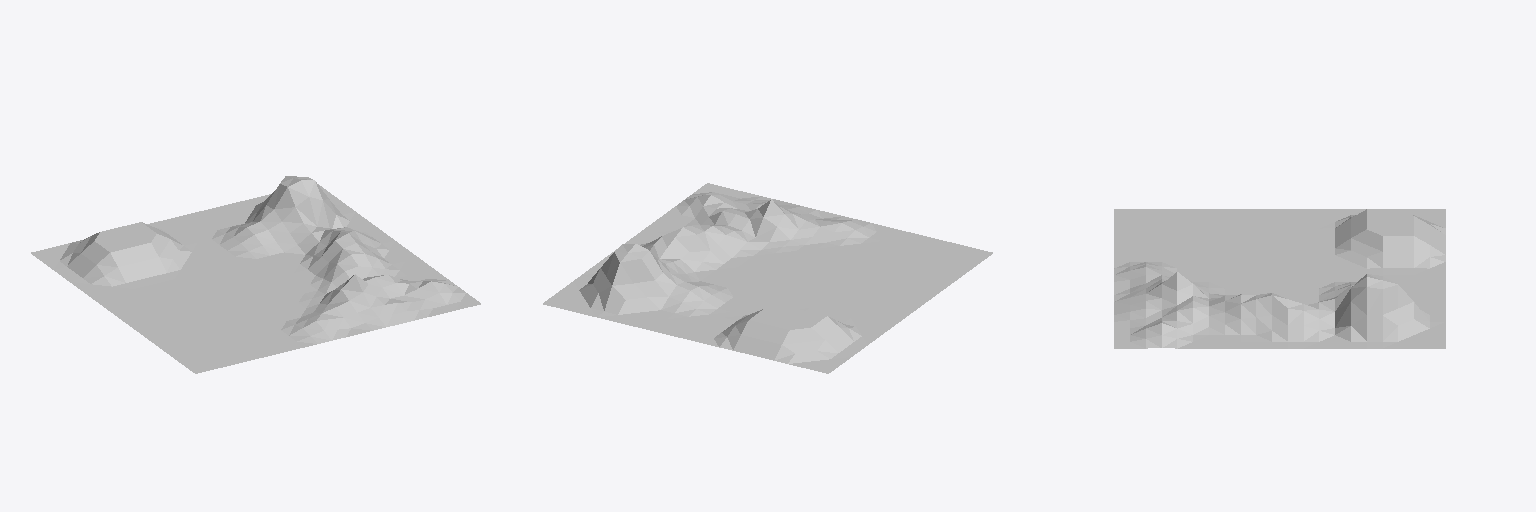
Rendered from terrain.obj.
3 views of the same model, side by side, from view 1: azimuth 30°, elevation 25°; view 2: azimuth 150°, elevation 25°; view 3: azimuth 270°, elevation 25° (orthographic).
Visible parts, largest first — view 1: Plane; view 2: Plane; view 3: Plane.
Boxes of the visible parts, x1,y1,x2,y2 form: Plane: [31, 176, 480, 373]; Plane: [543, 183, 992, 373]; Plane: [1114, 209, 1445, 348].
Size of the model in its own units: 20 by 3 by 20.